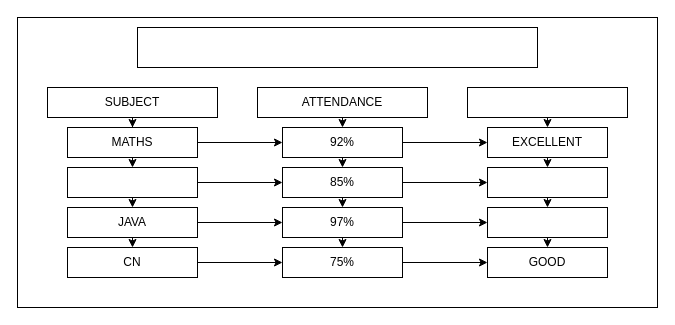
This 675x325 diagram has some shape labels left out. Each missing label, with the centre of its shape:
"ATTENDANCE REPORT" belongs at [337,47].
"DSA" belongs at [132,182].
"OUTSTANDING" belongs at [547,222].
"STATUS" belongs at [547,102].
"VERY GOOD" belongs at [547,182].
